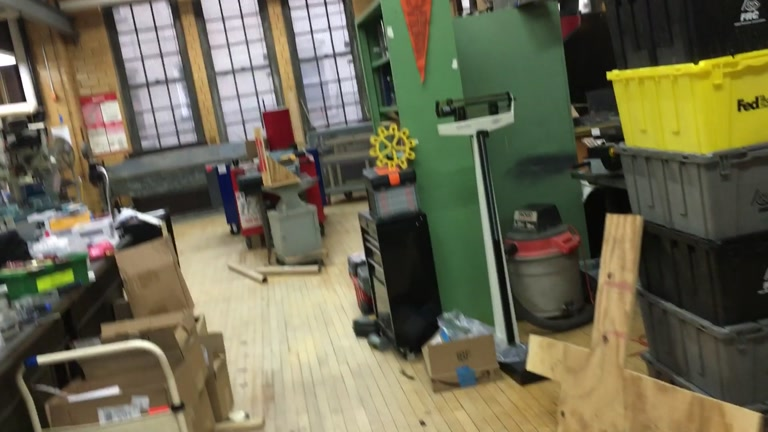gear: (368, 122, 415, 171)
